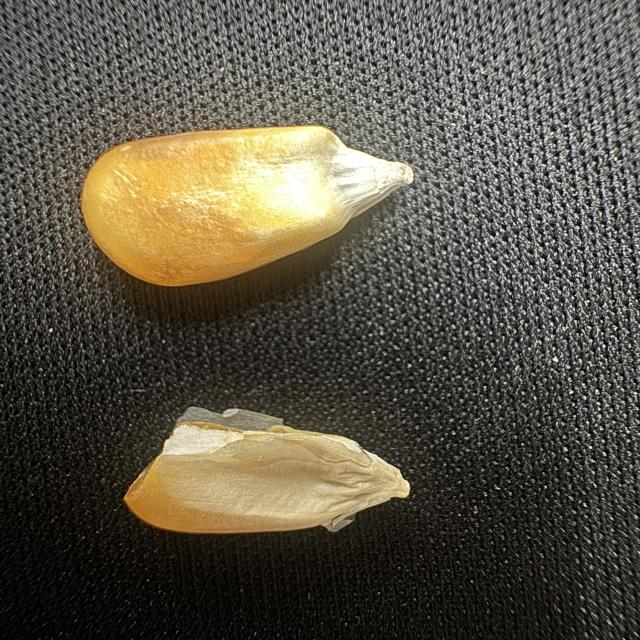Bad-Seed: (112, 400, 428, 564)
Good-Seed: (77, 122, 431, 294)
